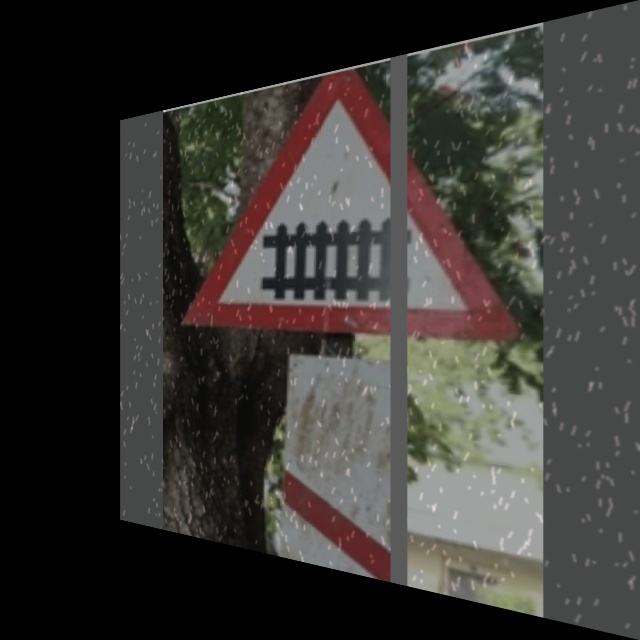Guarded_Level_Crossing: (193, 51, 499, 331)
